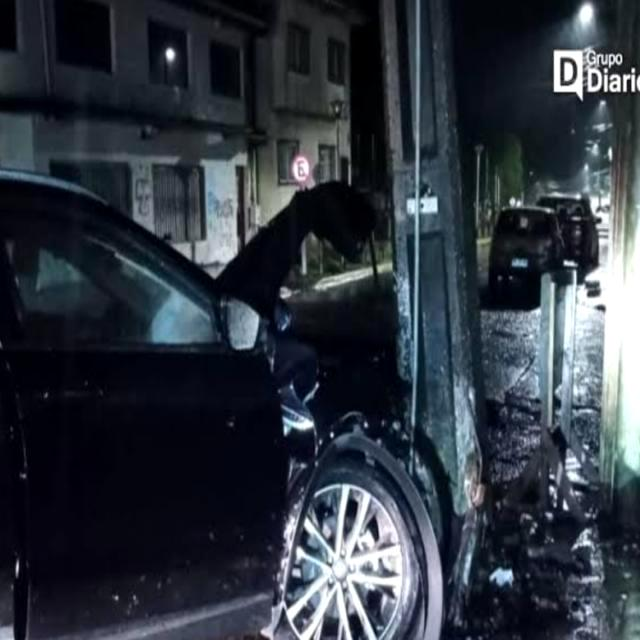Broken Pole: (377, 0, 517, 630)
